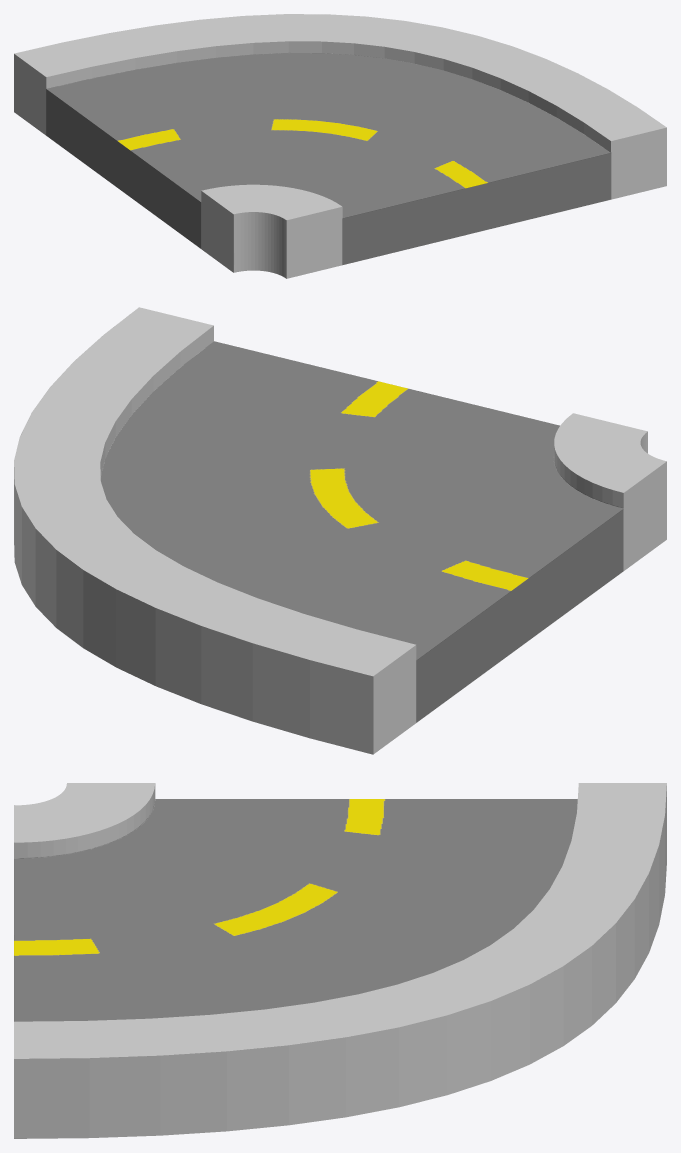
File: road_90.fbx
3 renders of one model, top to bottom at view 1: azimuth 30°, elevation 25°; view 2: azimuth 150°, elevation 25°; view 3: azimuth 270°, elevation 25°, orthographic. The views are drawn at different scales.
Parts seen in each view (by area): view 1: Cube.006; view 2: Cube.006; view 3: Cube.006.
Part boxes in pixels (x1=…): Cube.006: x1=14, y1=14, x2=666, y2=278; Cube.006: x1=14, y1=307, x2=666, y2=754; Cube.006: x1=14, y1=783, x2=666, y2=1138.
Size of the model in its own units: 185 by 25 by 185.
